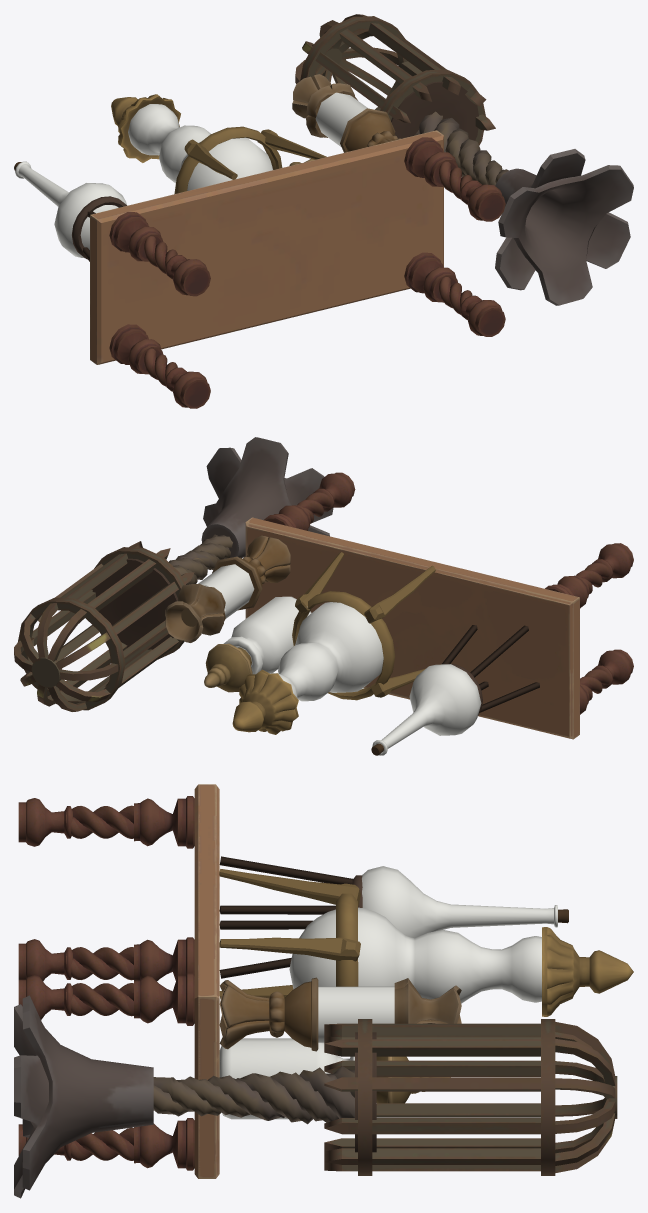
File: GrandmaBossTable.fbx
3 renders of one model, top to bottom at view 1: azimuth 30°, elevation 25°; view 2: azimuth 150°, elevation 25°; view 3: azimuth 270°, elevation 25°, orthographic. The views are drawn at different scales.
Visible parts, largest first — view 1: MiddleShelf, CageStand_OriginalCage, cage, cageFoot2, longBottle2, GlassJar_Long, StraightPiipe_Stretchable (2), cageBody1, container1_1, container1_3, bottleTop1, middleStickPart3 (+16 smaller); view 2: MiddleShelf, cage, longBottle2, cageFoot2, GlassJar_Long, GlassJar_Milk, bottleTop1, StraightPiipe_Stretchable (2), container1_1, CageStand_OriginalCage, GlassJar_FancywithBase, thickBottleCap1 (+17 smaller); view 3: cage, longBottle2, cageFoot2, MiddleShelf, cageBody1, GlassJar_Long, bottleTop1, GlassJar_Milk, CageStand_OriginalCage, glass1, container1_3, middleStickPart3.003 (+21 smaller).
Boxes of the visible parts, box(x1,y1,x2,y2) form: MiddleShelf: box(90, 130, 443, 364); CageStand_OriginalCage: box(498, 165, 633, 305); cage: box(295, 14, 495, 145); cageFoot2: box(495, 149, 630, 290); longBottle2: box(128, 104, 272, 190); GlassJar_Long: box(15, 161, 126, 258); StraightPiipe_Stretchable (2): box(391, 81, 478, 140); cageBody1: box(414, 111, 508, 185); container1_1: box(292, 74, 355, 137); container1_3: box(340, 108, 397, 152); bottleTop1: box(111, 94, 180, 162); middleStickPart3: box(109, 324, 162, 374); MiddleShelf: box(245, 517, 579, 739); cage: box(14, 541, 194, 711); longBottle2: box(270, 602, 383, 701); cageFoot2: box(201, 437, 329, 557); GlassJar_Long: box(372, 664, 481, 755); GlassJar_Milk: box(223, 596, 311, 674); bottleTop1: box(232, 669, 298, 734); StraightPiipe_Stretchable (2): box(92, 558, 177, 649); container1_1: box(165, 584, 225, 642); CageStand_OriginalCage: box(206, 447, 333, 556); GlassJar_FancywithBase: box(292, 591, 395, 700); thickBottleCap1: box(204, 643, 252, 692); cage: box(324, 1019, 617, 1175); longBottle2: box(289, 907, 541, 1003); cageFoot2: box(22, 995, 153, 1190); MiddleShelf: box(194, 784, 219, 1178); cageBody1: box(153, 1066, 354, 1124); GlassJar_Long: box(362, 866, 557, 938); bottleTop1: box(542, 927, 633, 1016); GlassJar_Milk: box(219, 1038, 354, 1119); CageStand_OriginalCage: box(14, 1004, 144, 1198); glass1: box(318, 986, 394, 1042); container1_3: box(269, 977, 318, 1051); middleStickPart3.003: box(134, 973, 194, 1025).
Bounding box in the file's own units: 1343 × 464 × 1233.
